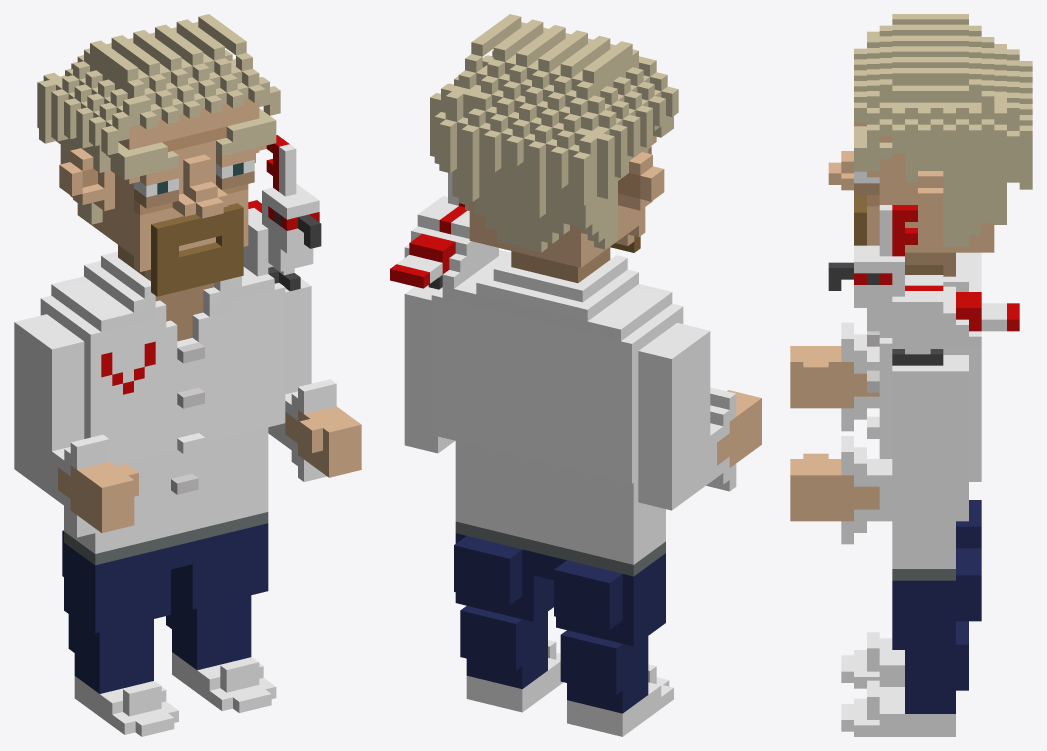
The model's file is RichardBranson.gltf.
3 views of the same model, side by side, from view 1: azimuth 30°, elevation 25°; view 2: azimuth 150°, elevation 25°; view 3: azimuth 270°, elevation 25° (orthographic). The views are drawn at different scales.
Size of the model in its own units: 24 by 57 by 19.
Materials: 1 (1 with a texture image).
